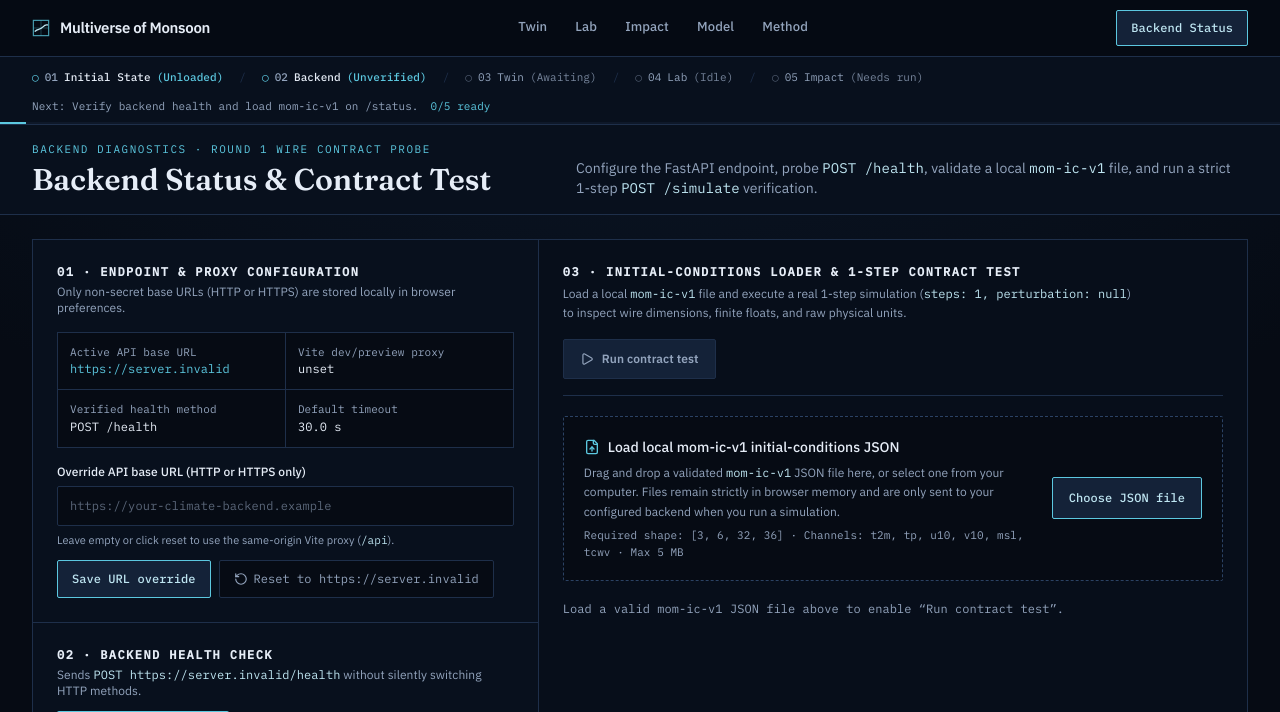
Test: Phase 1 UI routes and accessibility › validates API base URL override on /status and rejects non-HTTP schemes
The width and height of the screenshot is (1280, 712).
Type "ftp://invalid.example" into the field labelled "Override API base URL (HTTP or HTTPS only)" at x=285, y=506, box [57, 486, 514, 526]
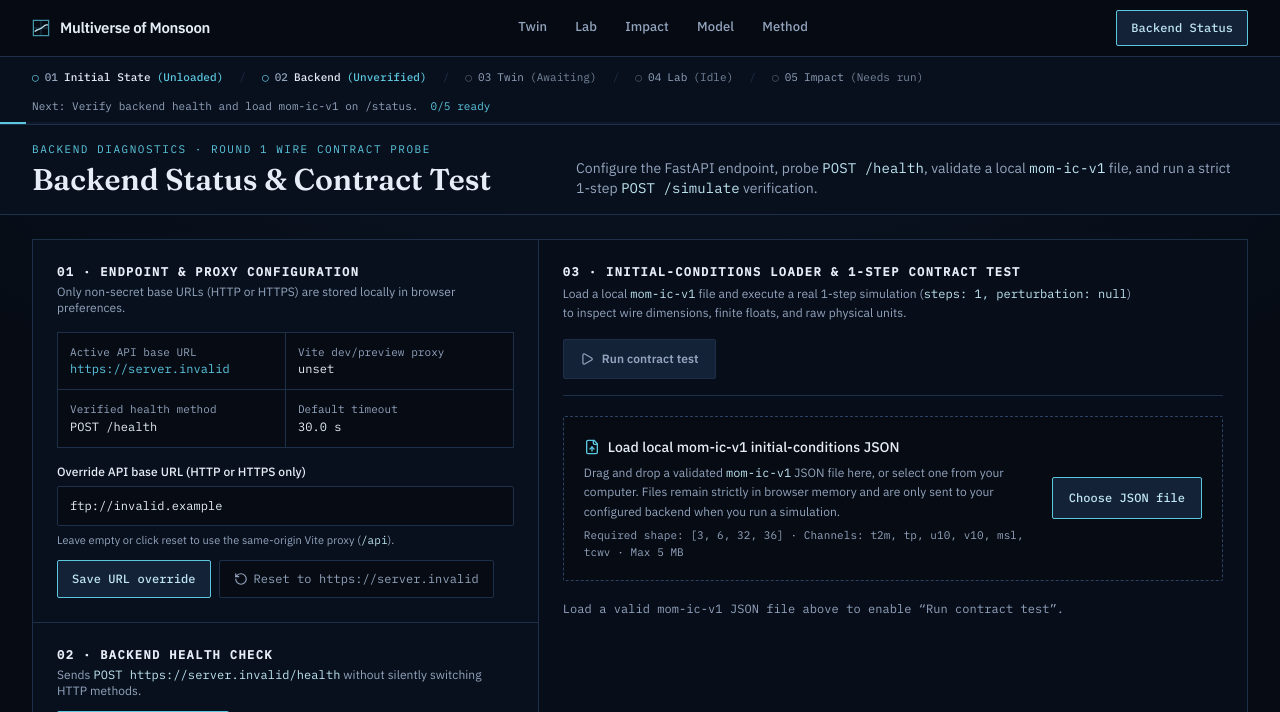
Click the button "Save URL override" at x=134, y=579, box [57, 560, 210, 598]
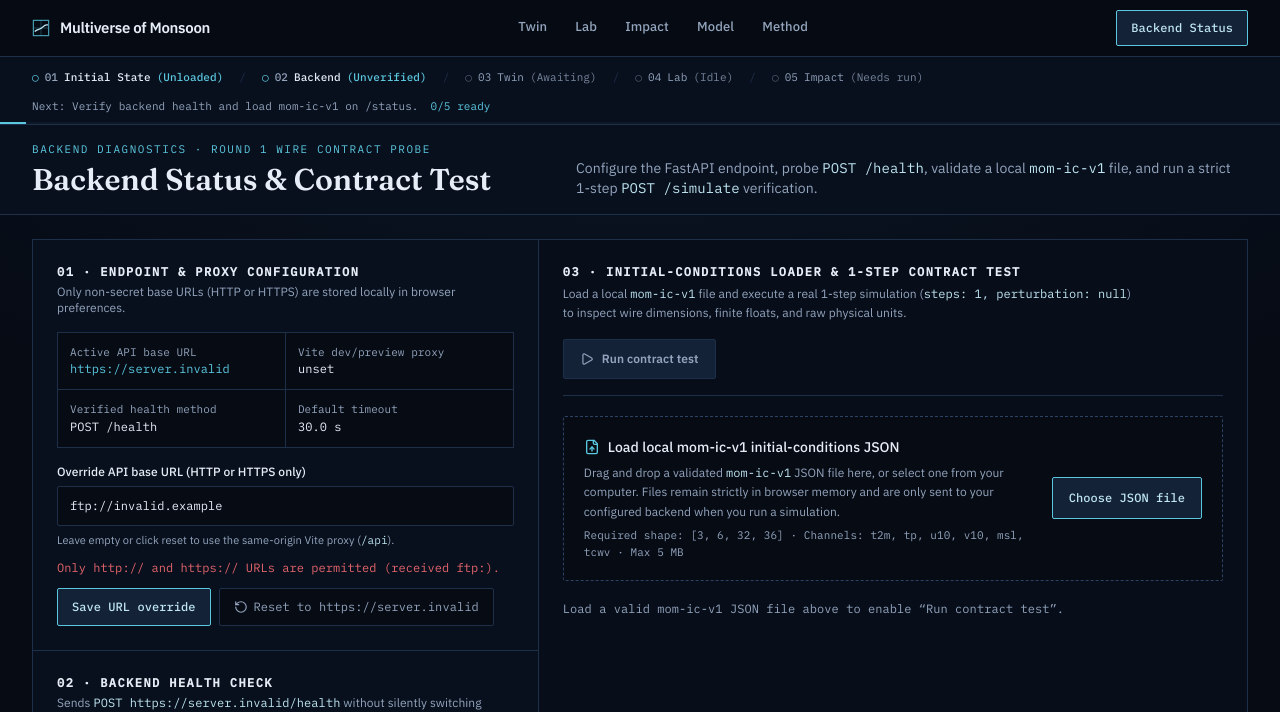
Expected: the button "Run contract test" is disabled, [563, 338, 716, 378]
Expected: the message shows "Only http:// and https:// URLs are permitted", [57, 560, 500, 575]
